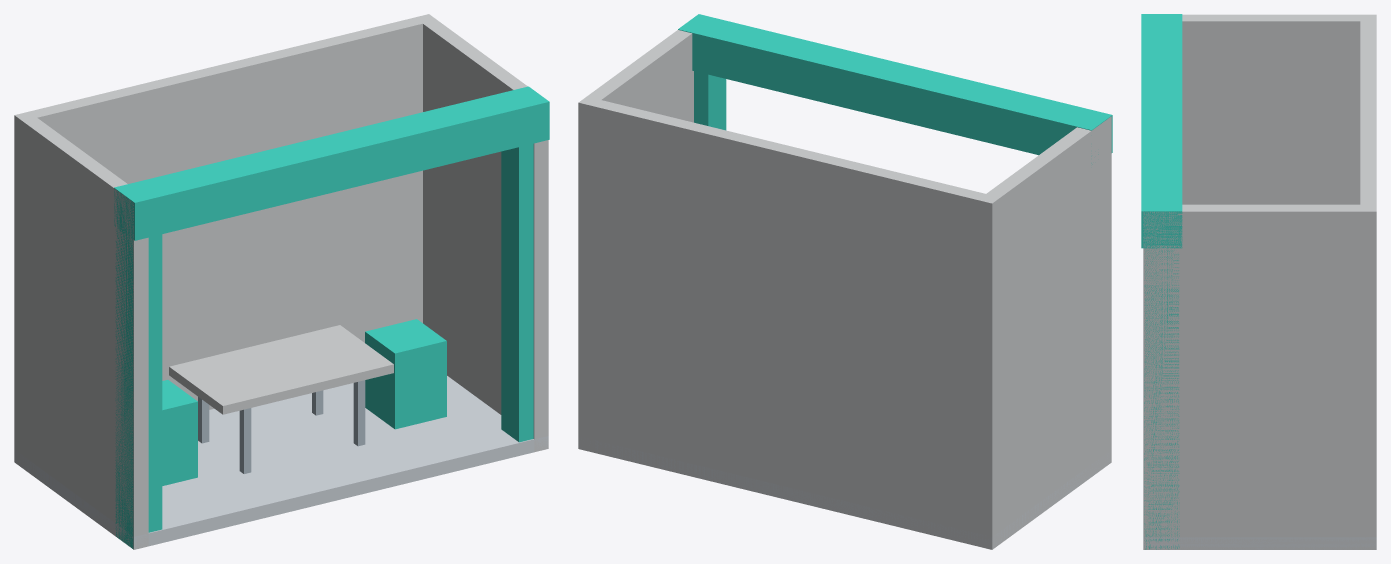
3 views of the same model, side by side, from view 1: azimuth 30°, elevation 25°; view 2: azimuth 150°, elevation 25°; view 3: azimuth 270°, elevation 25° (orthographic). The views are drawn at different scales.
Visible parts, largest first — view 1: Exhibition Booth Concept; view 2: Exhibition Booth Concept; view 3: Exhibition Booth Concept.
Boxes of the visible parts, left/top/right/bottom form: Exhibition Booth Concept: left=14, top=14, right=549, bottom=549; Exhibition Booth Concept: left=578, top=14, right=1112, bottom=549; Exhibition Booth Concept: left=1141, top=14, right=1376, bottom=549.
Size of the model in its own units: 4 by 3.2 by 2.01.
